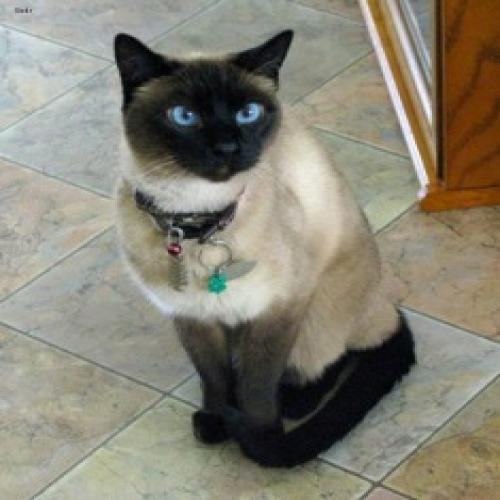siamese: (98, 15, 317, 193)
